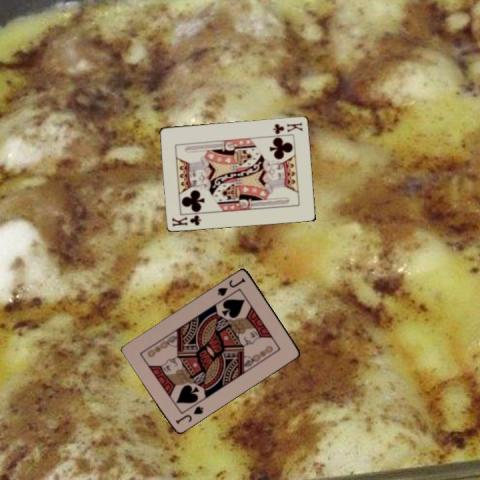Js: (214, 275, 247, 297), (172, 403, 204, 425)
Kc: (270, 119, 304, 135), (169, 212, 203, 227)
